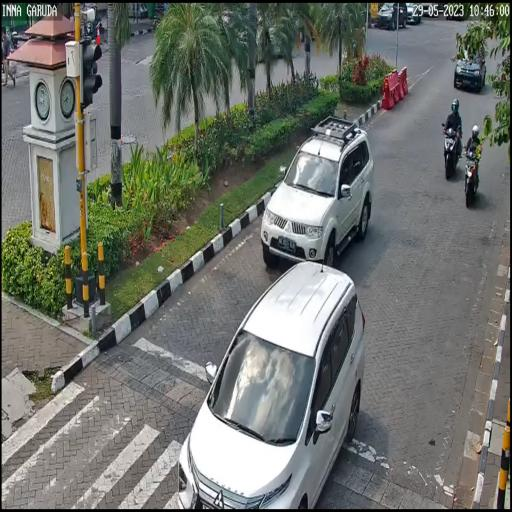mobil: (176, 261, 363, 512), (262, 116, 372, 268), (454, 41, 486, 92)
motor: (440, 123, 462, 181), (462, 144, 481, 208)
